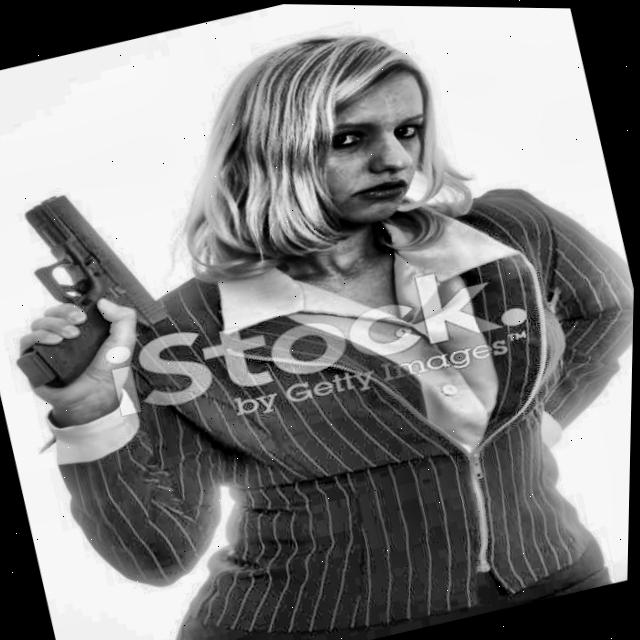pistol: (6, 180, 180, 401)
